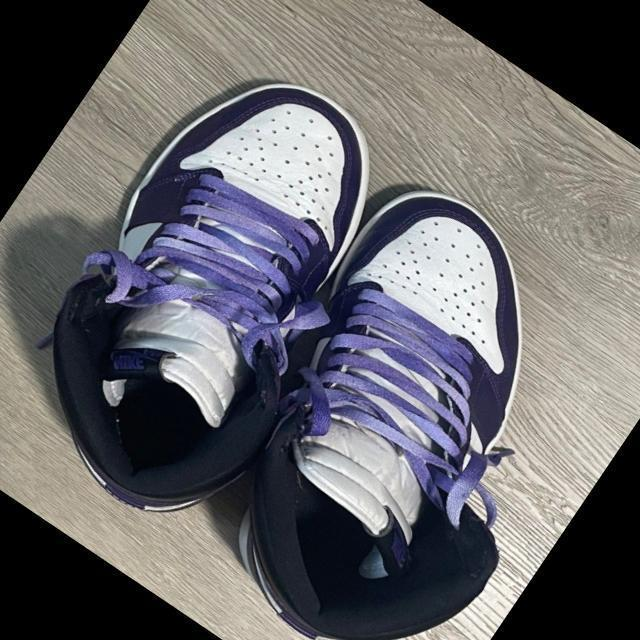nike original jordan 1: (156, 165, 640, 640), (0, 32, 445, 548)
